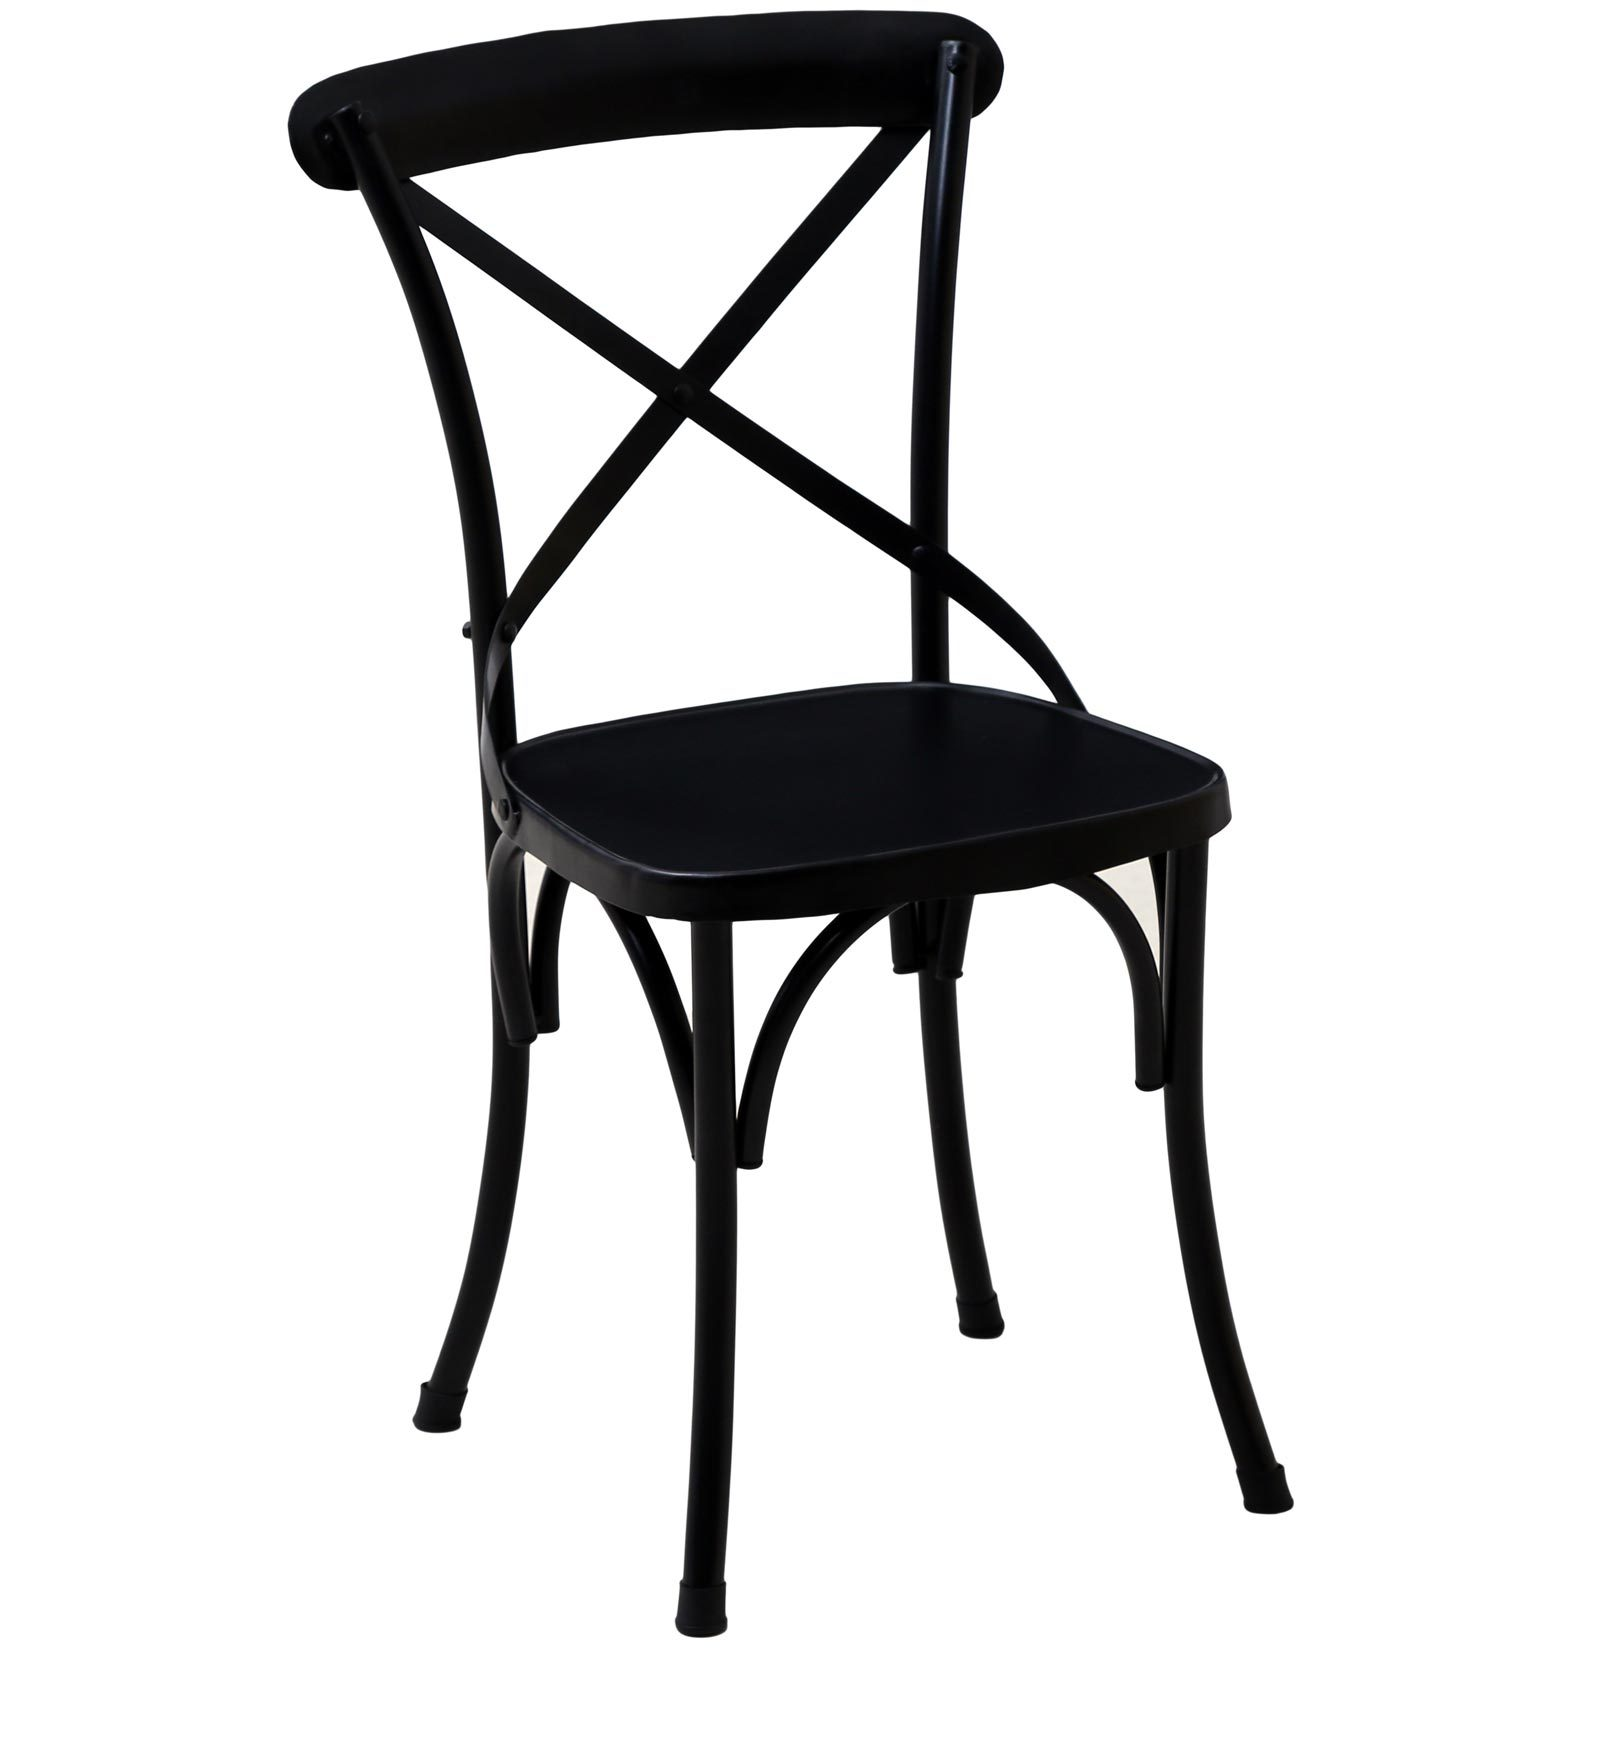Fabian Metal Chair in Black Color by Bohemiana: (239, 8, 1424, 1656)
